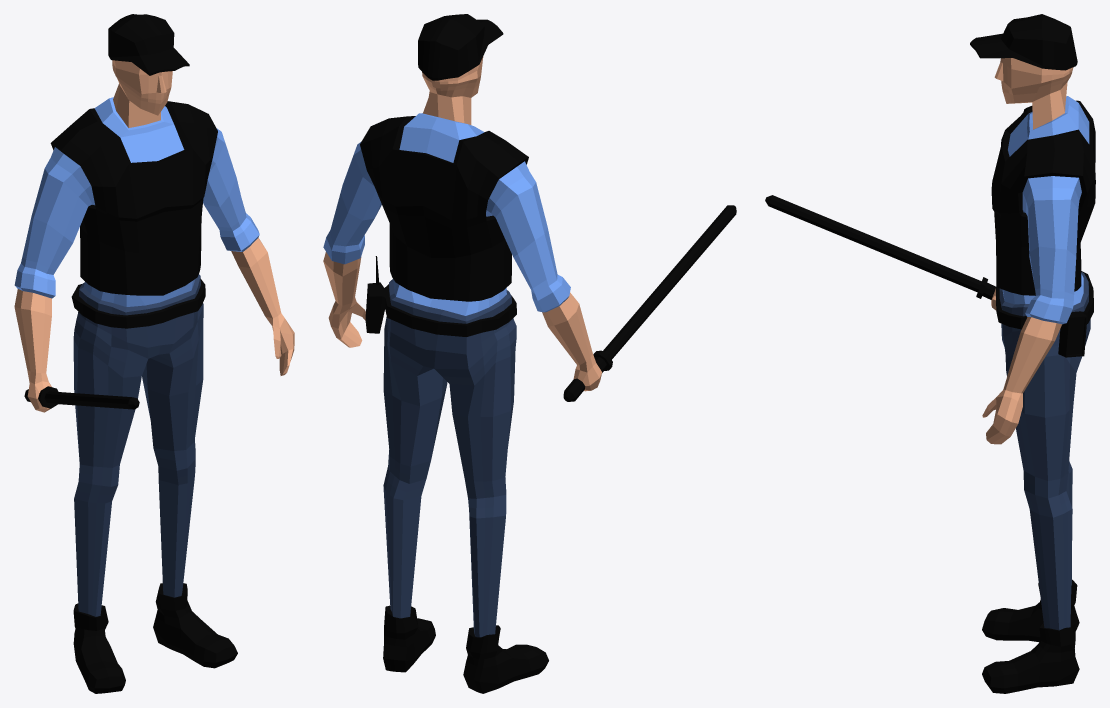
Rendered from guard.glb.
3 renders of one model, left to right at view 1: azimuth 30°, elevation 25°; view 2: azimuth 150°, elevation 25°; view 3: azimuth 270°, elevation 25°, orthographic.
Parts seen in each view (by area): view 1: Object_7, Object_5, Object_2, Object_3, Object_6; view 2: Object_7, Object_5, Object_2, Object_3, Object_6; view 3: Object_2, Object_7, Object_5, Object_3, Object_6.
Boxes of the visible parts, x1,y1,x2,y2 form: Object_7: [73, 274, 203, 616]; Object_5: [50, 101, 217, 295]; Object_2: [24, 14, 237, 693]; Object_3: [14, 97, 259, 306]; Object_6: [14, 60, 294, 412]; Object_7: [383, 279, 516, 637]; Object_5: [360, 116, 528, 301]; Object_2: [365, 14, 736, 693]; Object_3: [323, 113, 570, 315]; Object_6: [323, 56, 601, 391]; Object_2: [765, 14, 1093, 693]; Object_7: [999, 271, 1090, 630]; Object_5: [991, 100, 1095, 295]; Object_3: [1002, 96, 1089, 324]; Object_6: [982, 58, 1073, 444].
Bounding box in the file's own units: 0.8314 × 1.81 × 0.8416.
